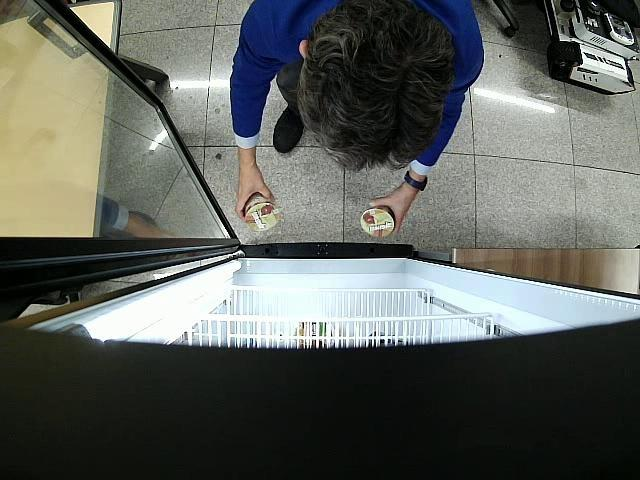04_chapagetti_S: (244, 194, 278, 233), (361, 205, 396, 238)
